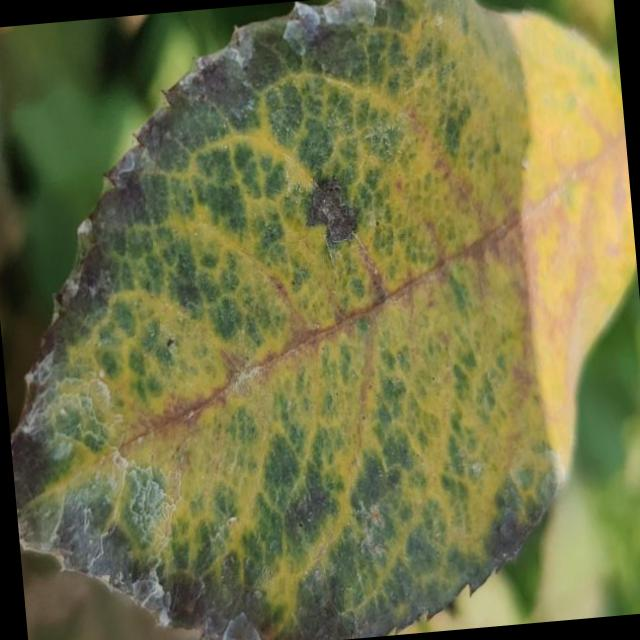Black_spot: (298, 171, 364, 250)
Rose: (0, 0, 640, 640)
